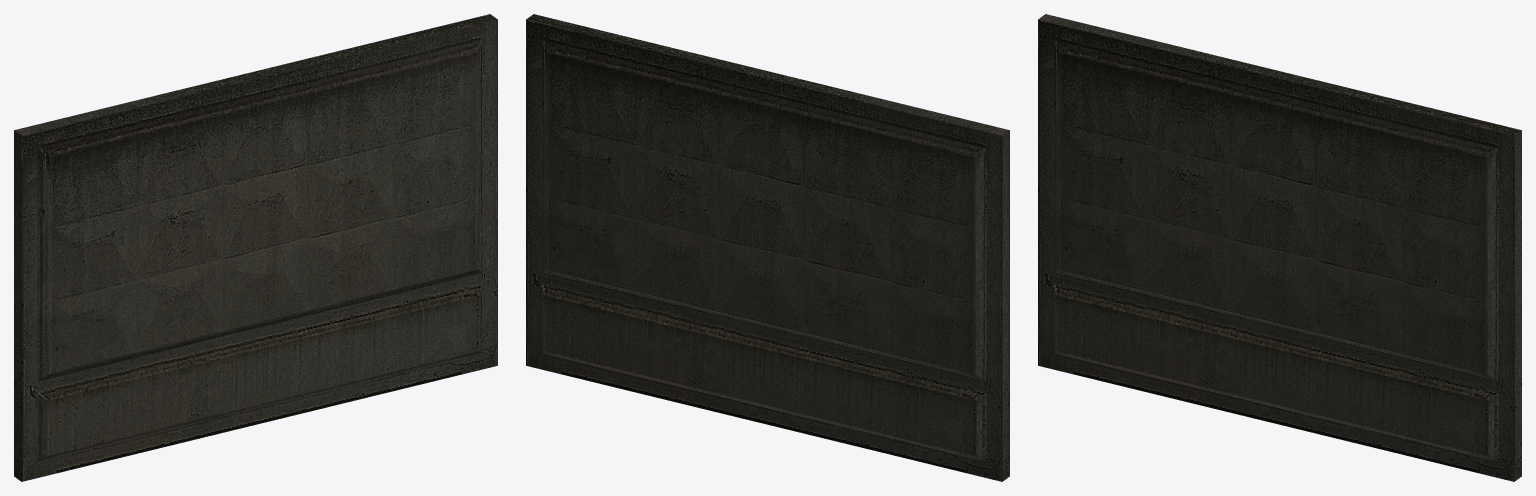
File: concrete_fence_hr_1.glb
The picture shows the model from 3 angles, left to right: view 1: azimuth 30°, elevation 25°; view 2: azimuth 150°, elevation 25°; view 3: azimuth 330°, elevation 25°; orthographic projection.
Visible parts, largest first — view 1: concrete_fence_hr_1; view 2: concrete_fence_hr_1; view 3: concrete_fence_hr_1.
Boxes of the visible parts, x1,y1,x2,y2 form: concrete_fence_hr_1: (14,14,497,481); concrete_fence_hr_1: (526,14,1009,481); concrete_fence_hr_1: (1038,14,1521,481).
Bounding box in the file's own units: 3.6 × 2.5 × 0.2.
Materials: 1 (1 with a texture image).
